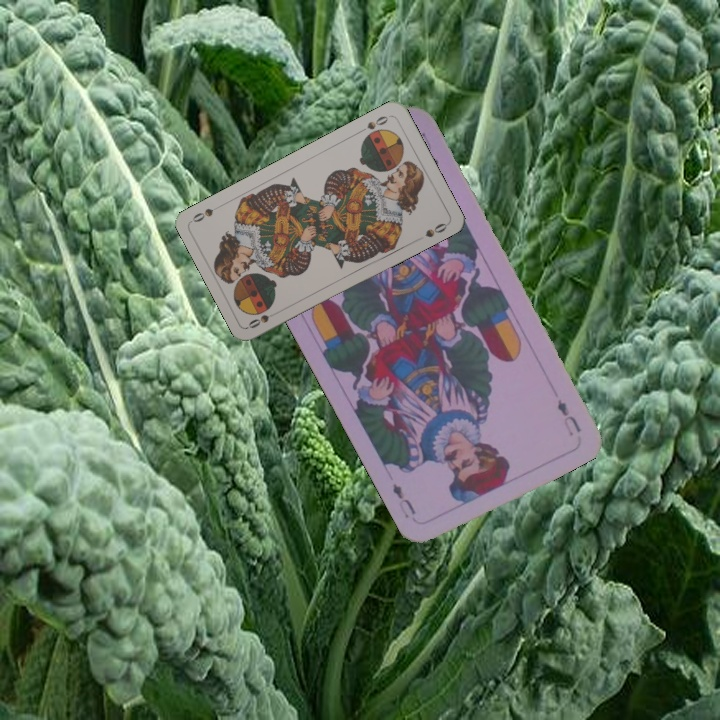EU: (553, 395, 584, 438)
SO: (244, 306, 283, 331), (355, 111, 393, 135)
